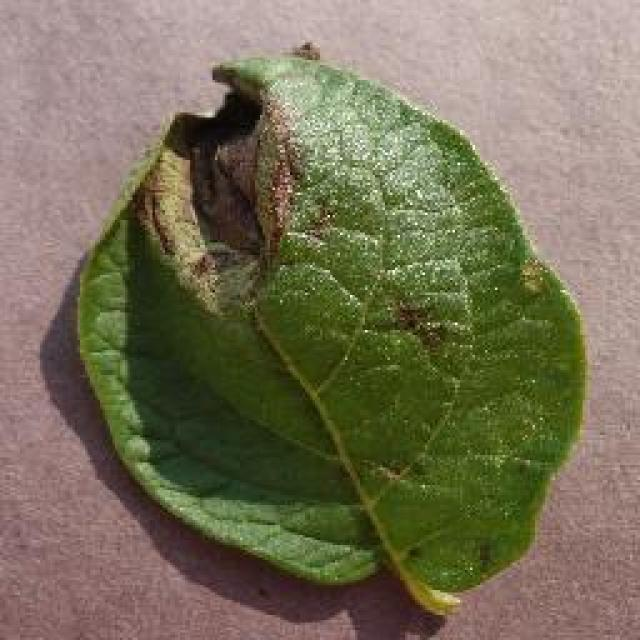Potato: (72, 40, 588, 618)
